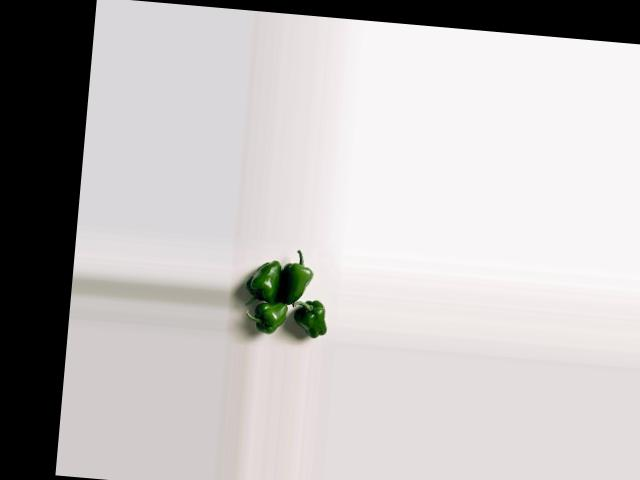bell_pepper: (245, 302, 290, 335)
